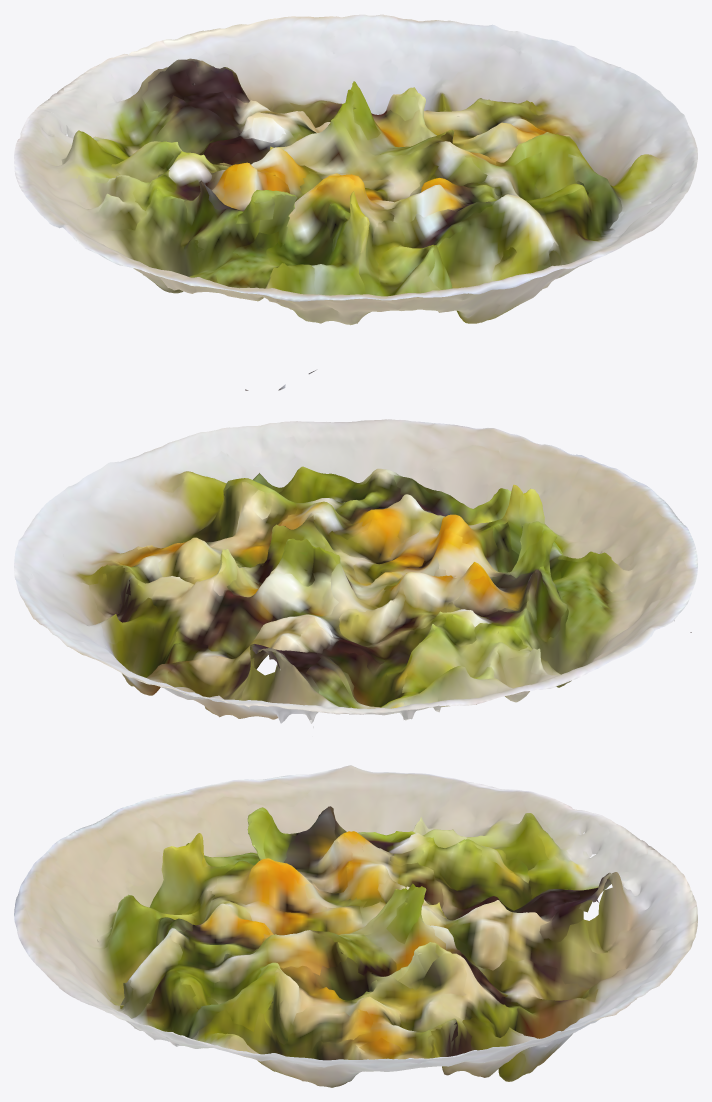
The model's file is salad_plate2.glb.
3 views of the same model, one above another, from view 1: azimuth 30°, elevation 25°; view 2: azimuth 150°, elevation 25°; view 3: azimuth 270°, elevation 25° (orthographic).
Visible parts, largest first — view 1: Object_2; view 2: Object_2; view 3: Object_2.
Part boxes in pixels (box(x1,y1,x2,y2)): Object_2: box(14, 14, 697, 390); Object_2: box(14, 419, 697, 727); Object_2: box(14, 765, 697, 1087).
Bounding box in the file's own units: 0.21 × 0.0472 × 0.21.
Materials: 1 (1 with a texture image).
